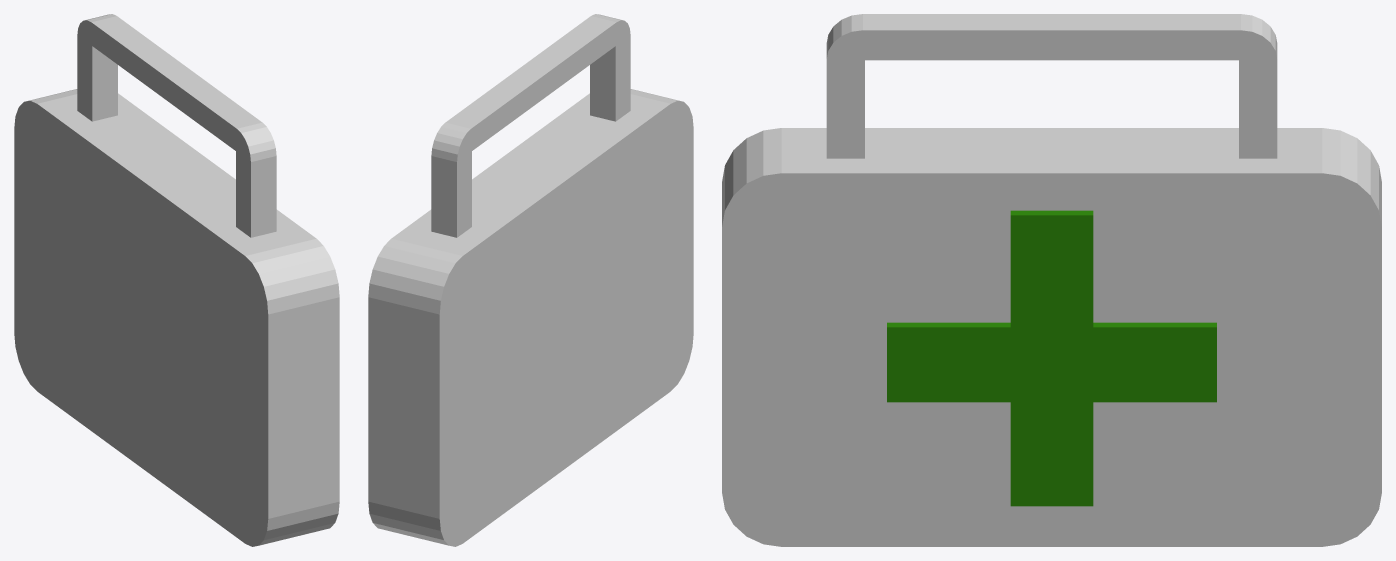
File: healthBox.fbx
3 views of the same model, side by side, from view 1: azimuth 30°, elevation 25°; view 2: azimuth 150°, elevation 25°; view 3: azimuth 270°, elevation 25° (orthographic). The views are drawn at different scales.
Visible parts, largest first — view 1: Cube; view 2: Cube; view 3: Cube.
Boxes of the visible parts, left/top/right/bottom form: Cube: left=14, top=14, right=339, bottom=546; Cube: left=368, top=14, right=693, bottom=546; Cube: left=722, top=14, right=1381, bottom=546.
Size of the model in its own units: 28.72 by 134 by 160.
